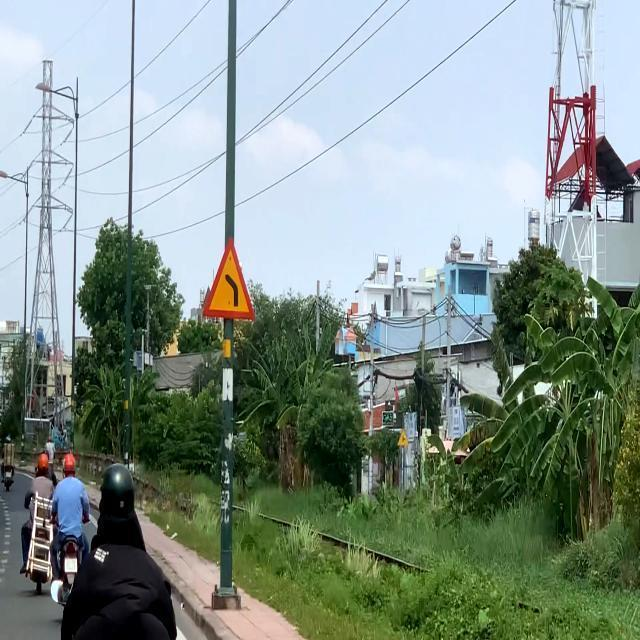201-cho-ngoat-nguy-hiem: (202, 238, 255, 322)
